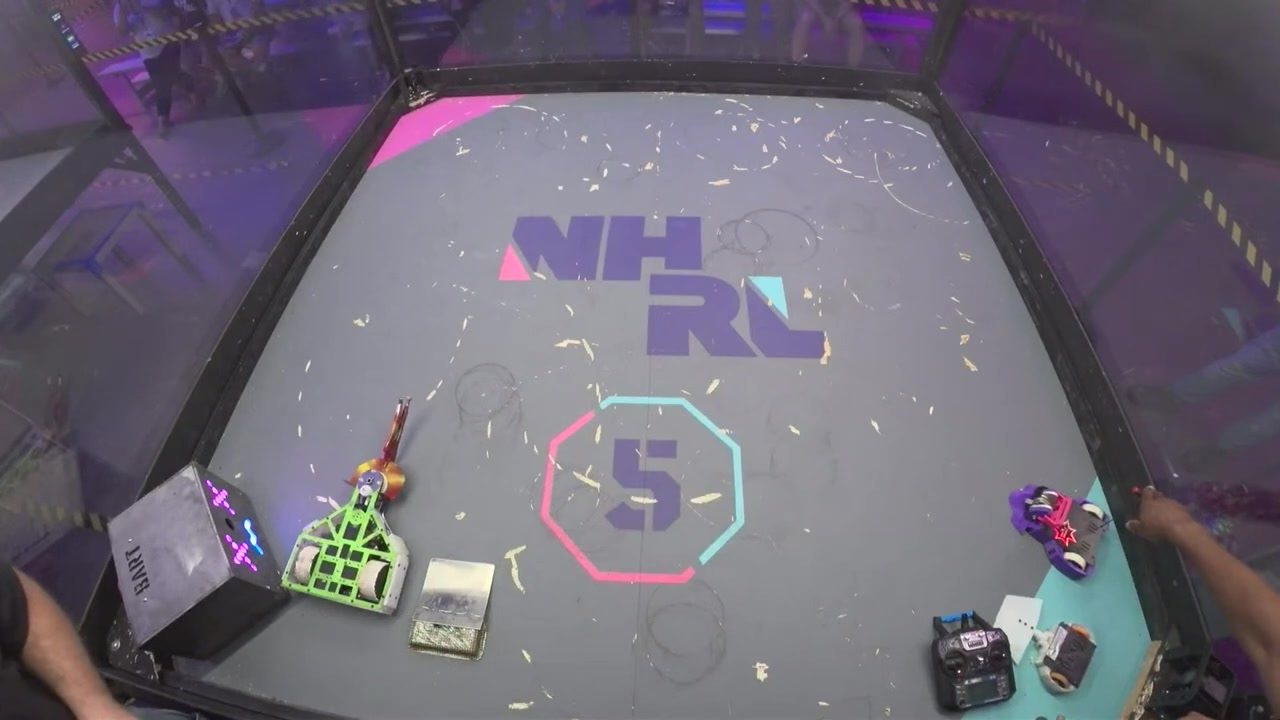combatbot: (284, 481, 409, 615), (1011, 482, 1112, 584)
housebot: (106, 461, 289, 665)
minibot: (995, 593, 1096, 696), (407, 560, 498, 663)
